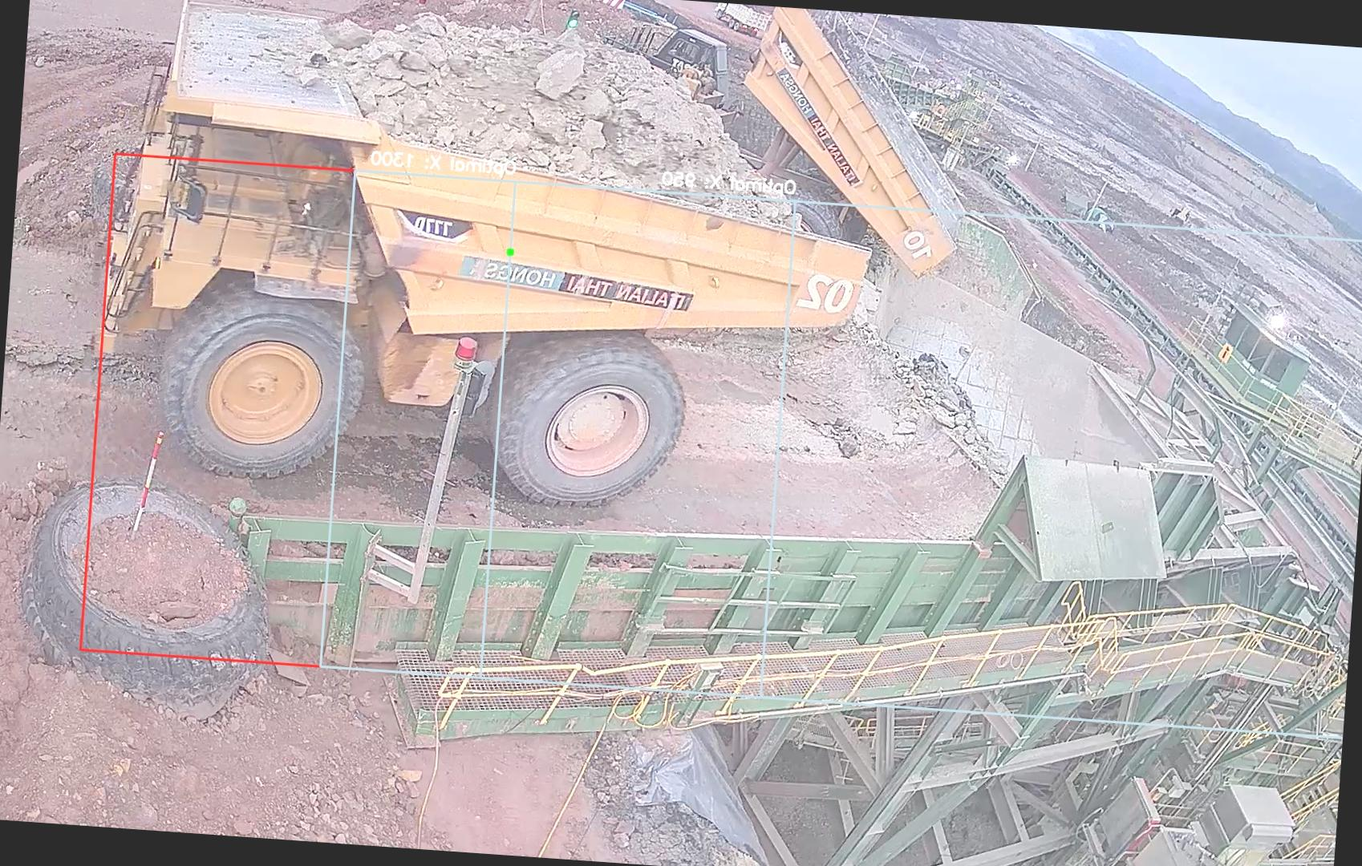company: (451, 250, 697, 314)
full_load: (376, 11, 741, 208)
mining_truck: (87, 0, 898, 529)
tail_number: (789, 261, 859, 322)
truck_size: (393, 205, 474, 246)
